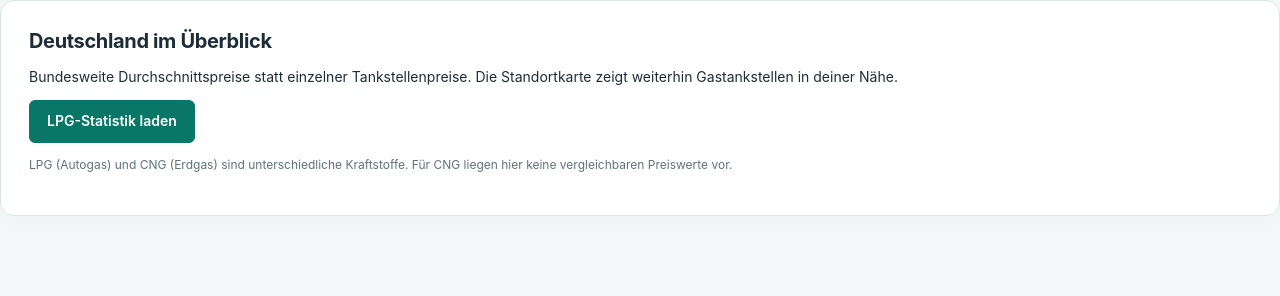
Test case: shows retryable local dataset error without requesting external prices
Click the button "LPG-Statistik laden" at {"x": 112, "y": 122}, box [29,100,195,143]
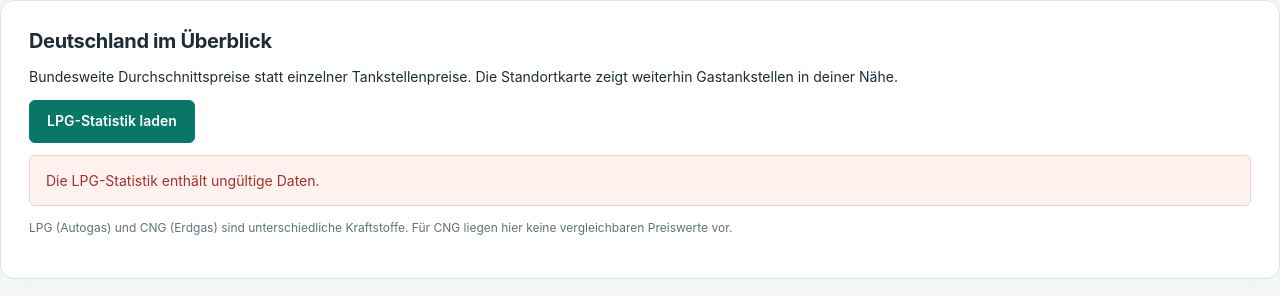
Result: the message shows "ungültige Daten" at [46,172,320,189]
